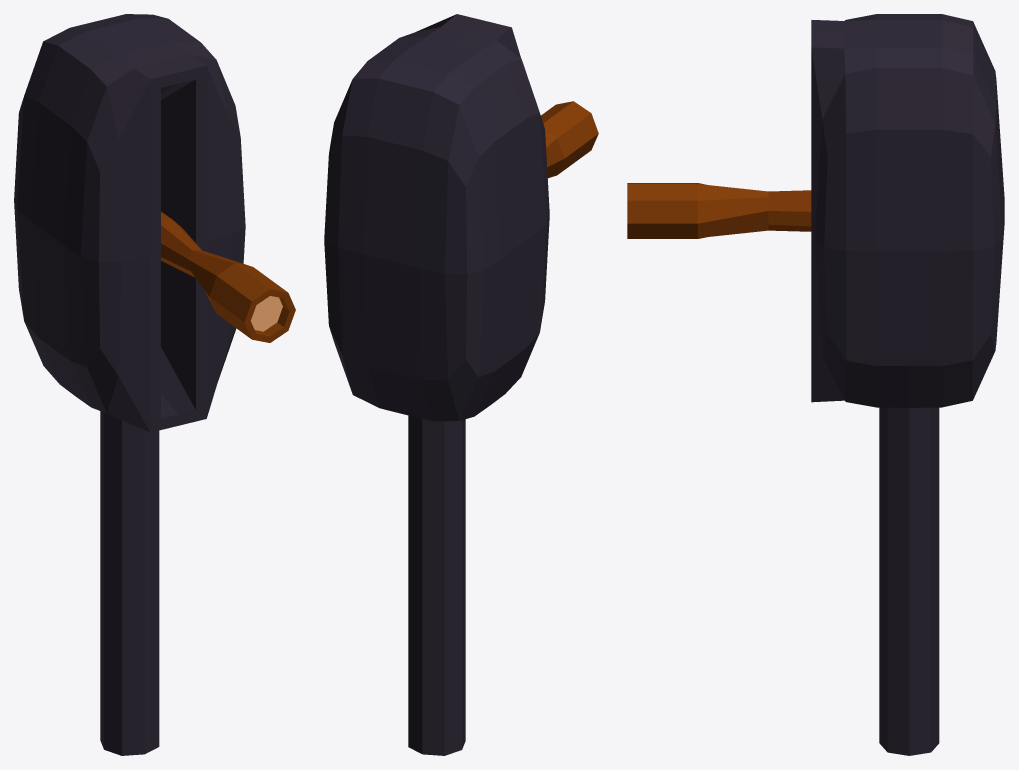
File: flip_switch.glb
The picture shows the model from 3 angles, left to right: view 1: azimuth 30°, elevation 25°; view 2: azimuth 150°, elevation 25°; view 3: azimuth 270°, elevation 25°; orthographic projection. The views are drawn at different scales.
Visible parts, largest first — view 1: FlipSwitch, switch; view 2: FlipSwitch, switch; view 3: FlipSwitch, switch.
Boxes of the visible parts, x1=… form: FlipSwitch: x1=14, y1=14, x2=245, y2=755; switch: x1=161, y1=211, x2=295, y2=342; FlipSwitch: x1=324, y1=14, x2=549, y2=755; switch: x1=541, y1=101, x2=598, y2=178; FlipSwitch: x1=811, y1=14, x2=1004, y2=755; switch: x1=627, y1=183, x2=811, y2=238.
Size of the model in its own units: 0.2431 by 1 by 0.4815.
